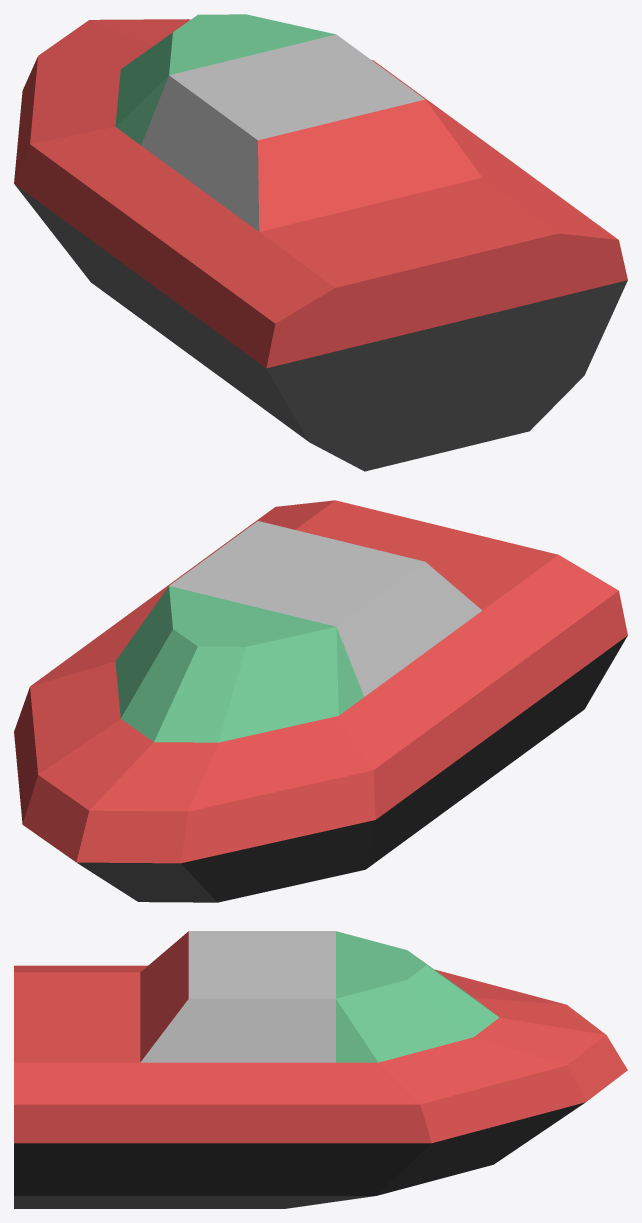
Rendered from boat_016.fbx.
The picture shows the model from 3 angles, top to bottom: view 1: azimuth 30°, elevation 25°; view 2: azimuth 150°, elevation 25°; view 3: azimuth 270°, elevation 25°; orthographic projection. The views are drawn at different scales.
Visible parts, largest first — view 1: boat_016; view 2: boat_016; view 3: boat_016.
Part boxes in pixels (box(x1,y1,x2,y2)): boat_016: box(14, 14, 627, 471); boat_016: box(14, 500, 627, 902); boat_016: box(14, 931, 627, 1208).
Bounding box in the file's own units: 17.85 × 12 × 31.7.
